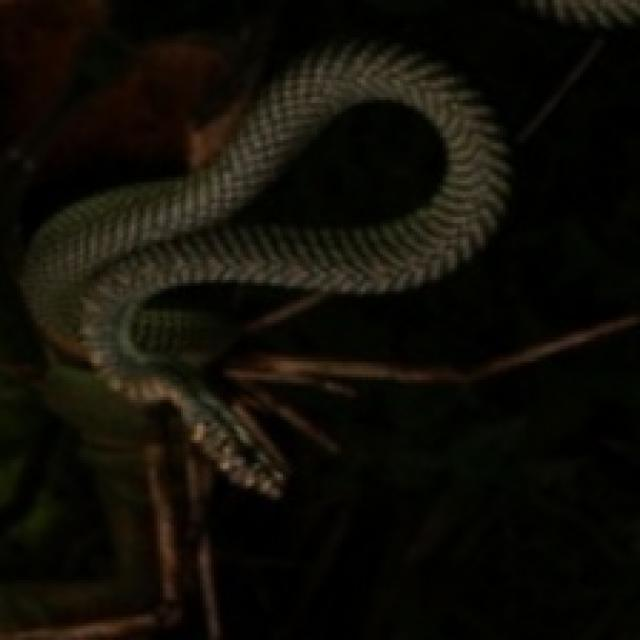paradise tree snake: (23, 43, 506, 494), (231, 100, 446, 226)
